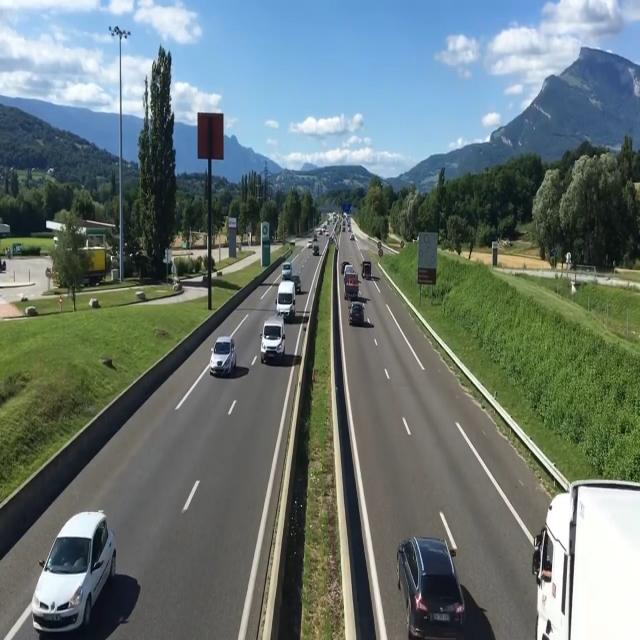car: (36, 510, 118, 640), (395, 534, 474, 640), (210, 334, 242, 381), (261, 318, 287, 363), (274, 278, 298, 318), (343, 256, 361, 306), (350, 292, 371, 330), (360, 255, 375, 281)
truck: (539, 482, 633, 640)
